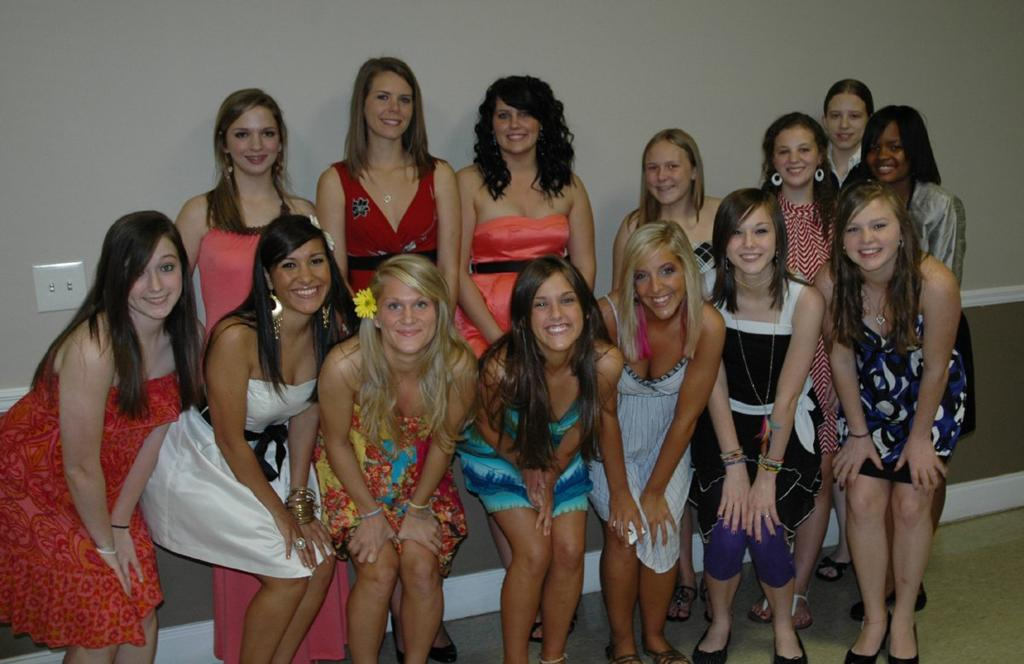face: (125, 236, 182, 319), (379, 278, 437, 354), (274, 239, 331, 313), (531, 274, 584, 352), (844, 200, 900, 272), (635, 247, 687, 320), (725, 204, 776, 274), (228, 107, 280, 174), (366, 73, 413, 139), (645, 142, 692, 204), (867, 121, 913, 183), (495, 97, 540, 154), (775, 129, 820, 186), (827, 96, 869, 150)
